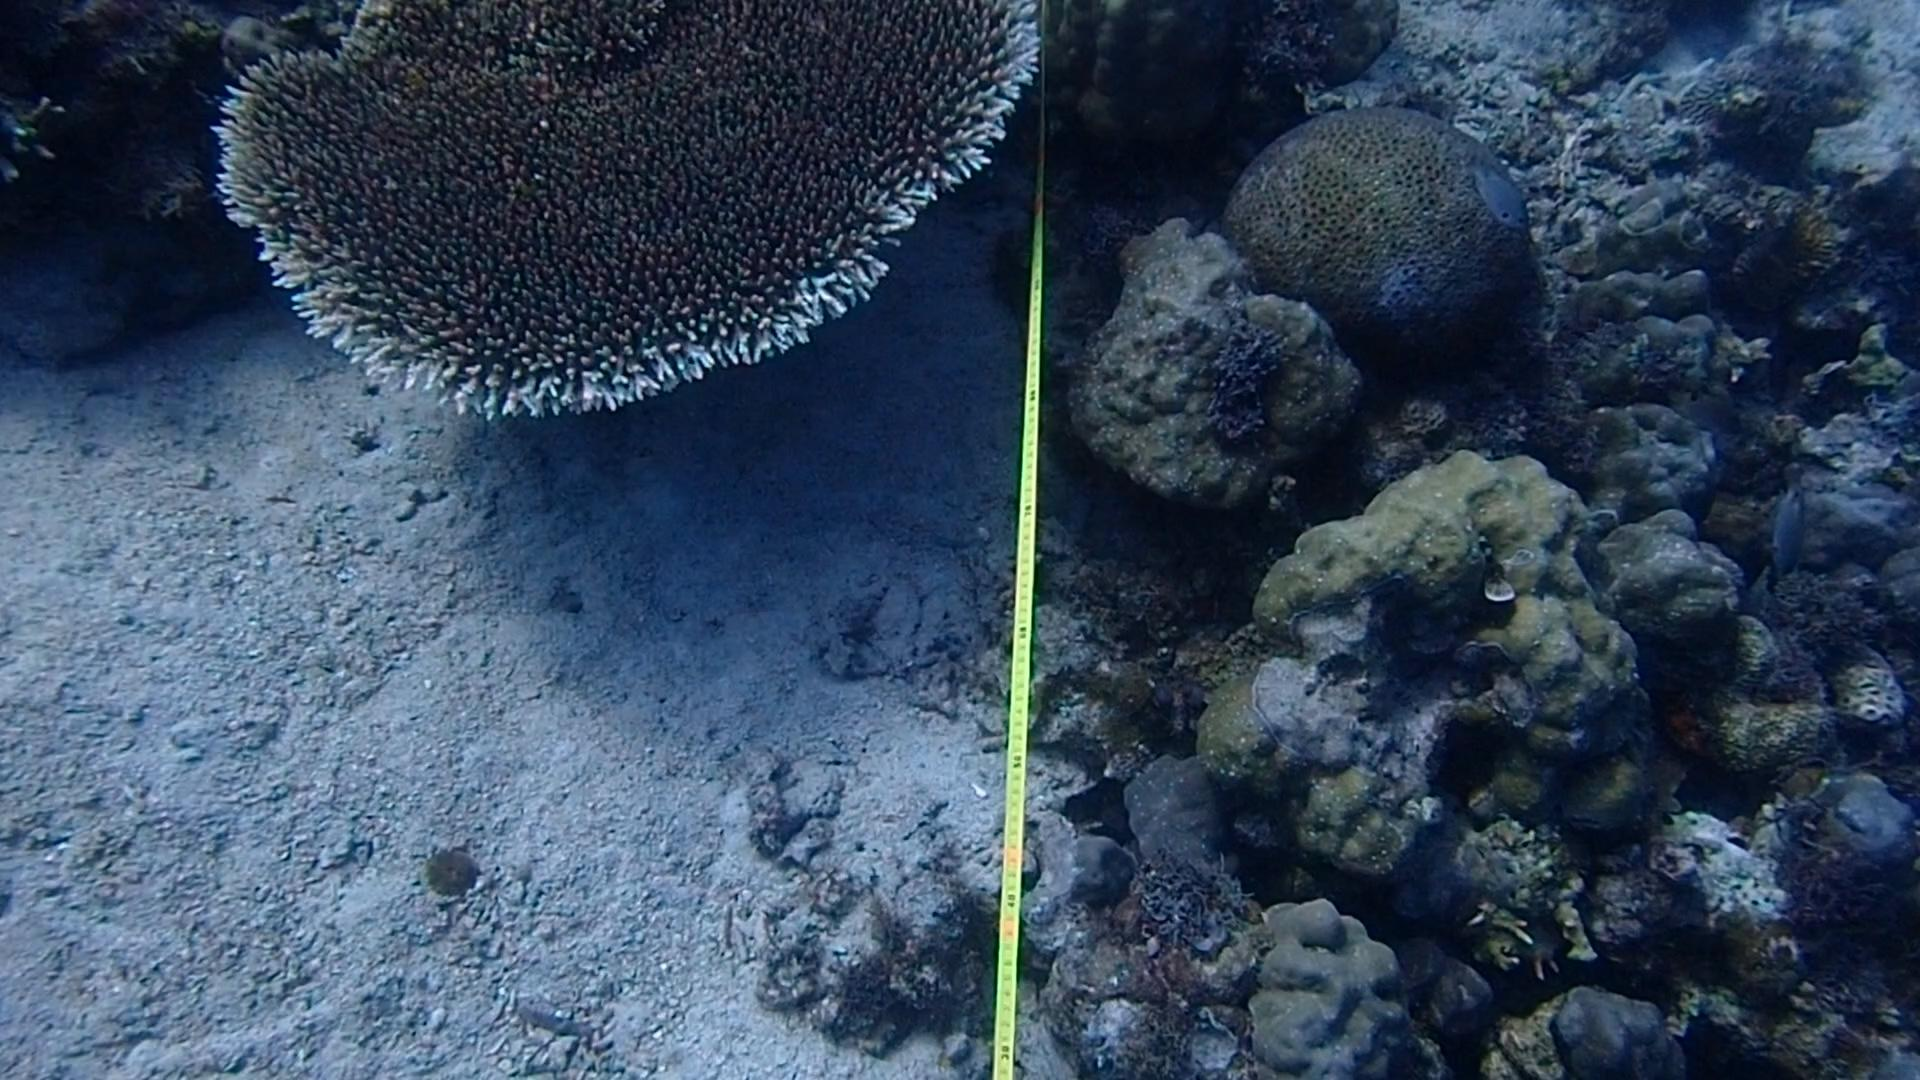Light Fish: (1465, 142, 1542, 244), (1755, 476, 1815, 579)
